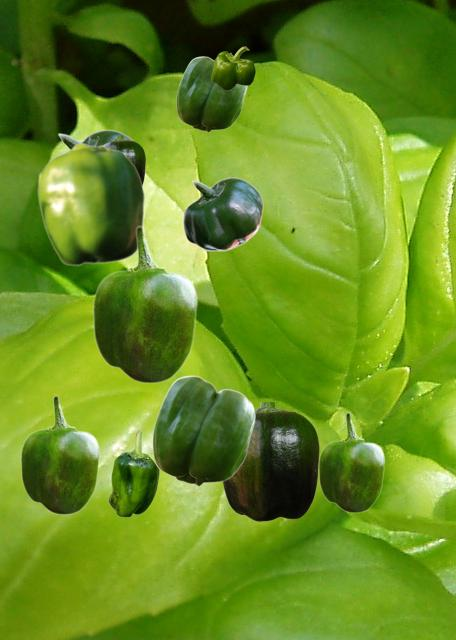bell_pepper: (92, 225, 197, 383), (37, 142, 144, 265), (222, 402, 318, 520), (152, 375, 254, 485), (20, 395, 99, 514), (318, 412, 384, 512), (182, 177, 262, 250), (176, 56, 246, 131), (108, 429, 158, 516), (105, 136, 144, 184), (211, 46, 254, 89), (57, 129, 133, 148)
